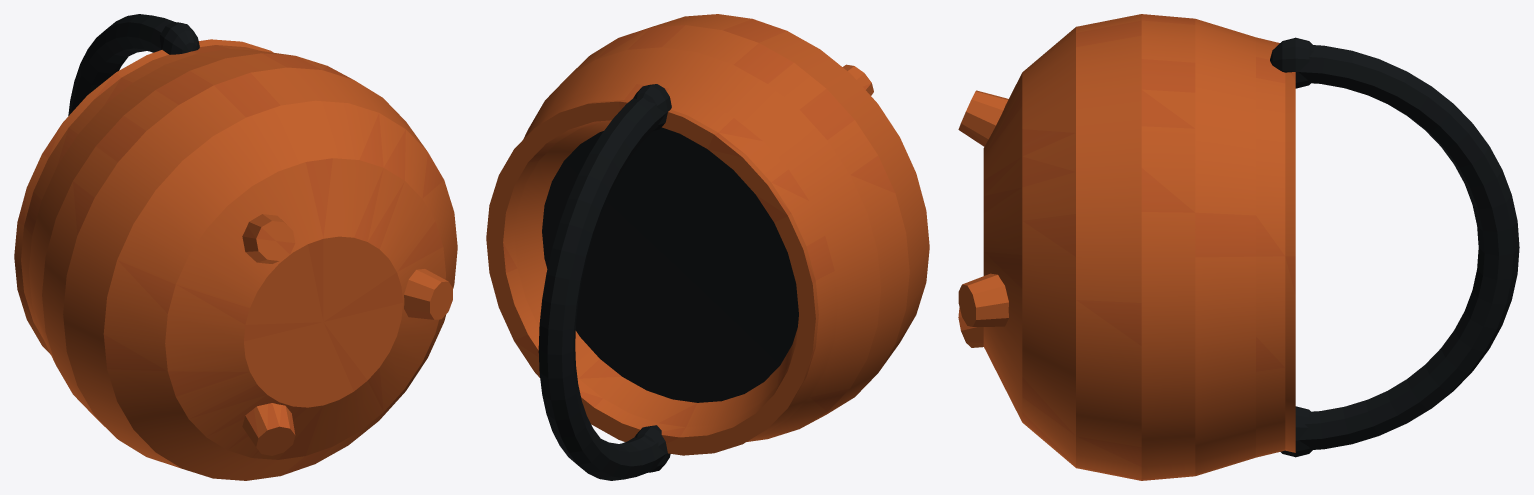
Rendered from EVHalloween_WitchCauldron_Variant1_GripB_Held.fbx.
3 views of the same model, side by side, from view 1: azimuth 30°, elevation 25°; view 2: azimuth 150°, elevation 25°; view 3: azimuth 270°, elevation 25° (orthographic). The views are drawn at different scales.
Parts seen in each view (by area): view 1: EVHalloween_Decor_PumpkinOrange; view 2: EVHalloween_Decor_PumpkinOrange; view 3: EVHalloween_Decor_PumpkinOrange.
Boxes of the visible parts, x1,y1,x2,y2 form: EVHalloween_Decor_PumpkinOrange: [14, 14, 457, 480]; EVHalloween_Decor_PumpkinOrange: [486, 14, 929, 480]; EVHalloween_Decor_PumpkinOrange: [958, 14, 1519, 480].
Bounding box in the file's own units: 40 × 40 × 48.02.
